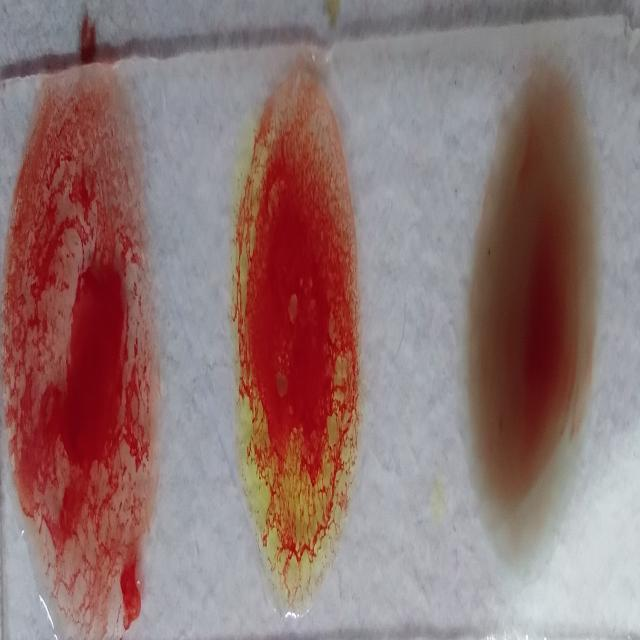B: (228, 58, 359, 620)
D: (3, 73, 163, 635)
